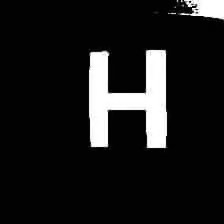LTR_H: (75, 40, 179, 161)
